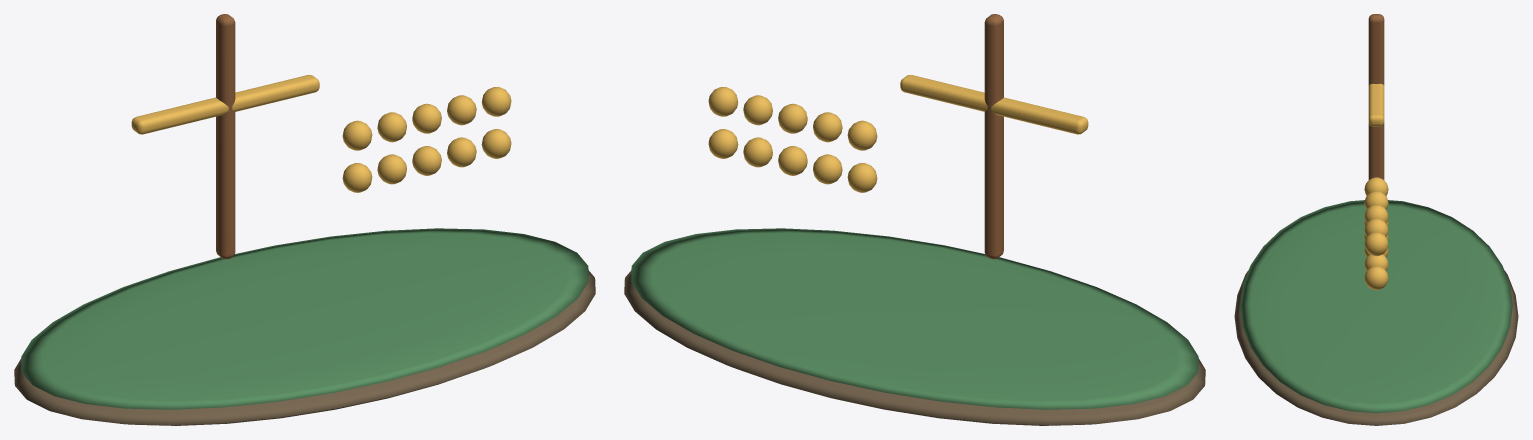
Rendered from ten.glb.
3 renders of one model, left to right at view 1: azimuth 30°, elevation 25°; view 2: azimuth 150°, elevation 25°; view 3: azimuth 270°, elevation 25°, orthographic. The views are drawn at different scales.
Visible parts, largest first — view 1: ten_surface_01, ten_surface_02, ten_surface_00, ten_surface_03; view 2: ten_surface_01, ten_surface_02, ten_surface_00, ten_surface_03; view 3: ten_surface_01, ten_surface_00, ten_surface_02, ten_surface_03.
Boxes of the visible parts, box(x1,y1,x2,y2) form: ten_surface_01: box(21, 228, 588, 409); ten_surface_02: box(131, 75, 511, 192); ten_surface_00: box(14, 270, 595, 425); ten_surface_03: box(216, 14, 235, 259); ten_surface_01: box(631, 228, 1198, 409); ten_surface_02: box(708, 75, 1088, 192); ten_surface_00: box(624, 270, 1205, 425); ten_surface_03: box(984, 14, 1003, 259); ten_surface_01: box(1240, 200, 1512, 413); ten_surface_00: box(1234, 270, 1518, 425); ten_surface_02: box(1364, 83, 1388, 290); ten_surface_03: box(1368, 14, 1384, 179).
Bounding box in the file's own units: 4.56 × 2.76 × 2.5.
